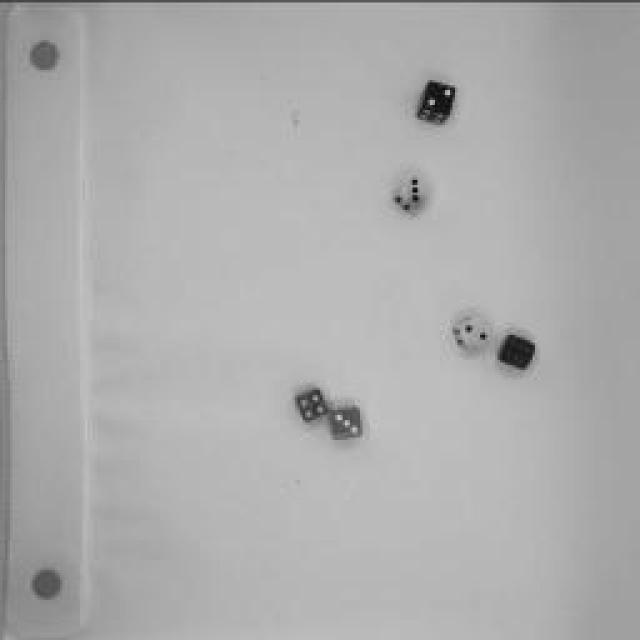dice_2: (414, 82, 456, 126), (452, 314, 492, 351)
dice_3: (392, 170, 432, 215), (325, 402, 365, 442)
dice_4: (291, 384, 329, 424)
dice_6: (496, 331, 536, 369)
